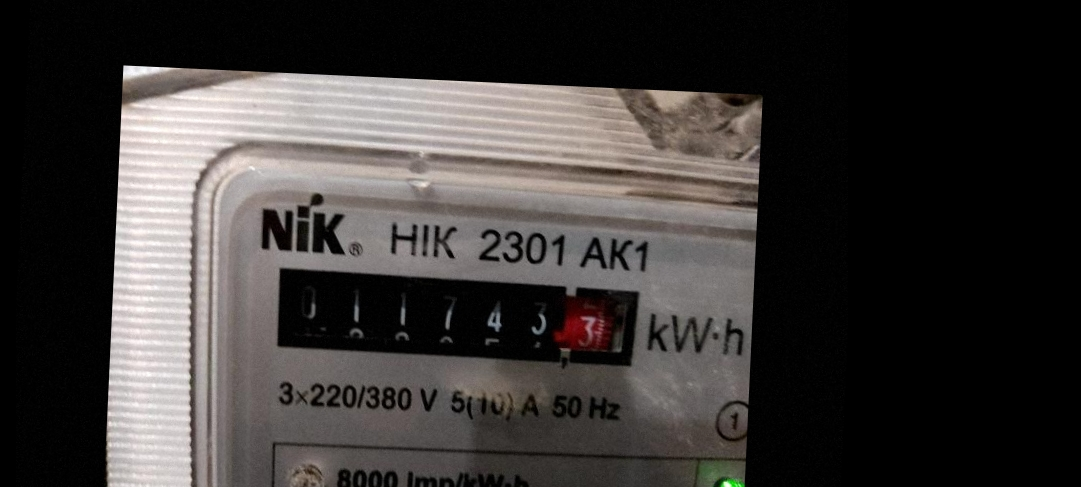0: (297, 282, 320, 322), (347, 283, 366, 325)
1: (393, 286, 411, 328)
3: (528, 296, 550, 339), (576, 311, 597, 350)
4: (483, 294, 505, 334)
7: (436, 288, 461, 333)
screen: (256, 253, 648, 378)
